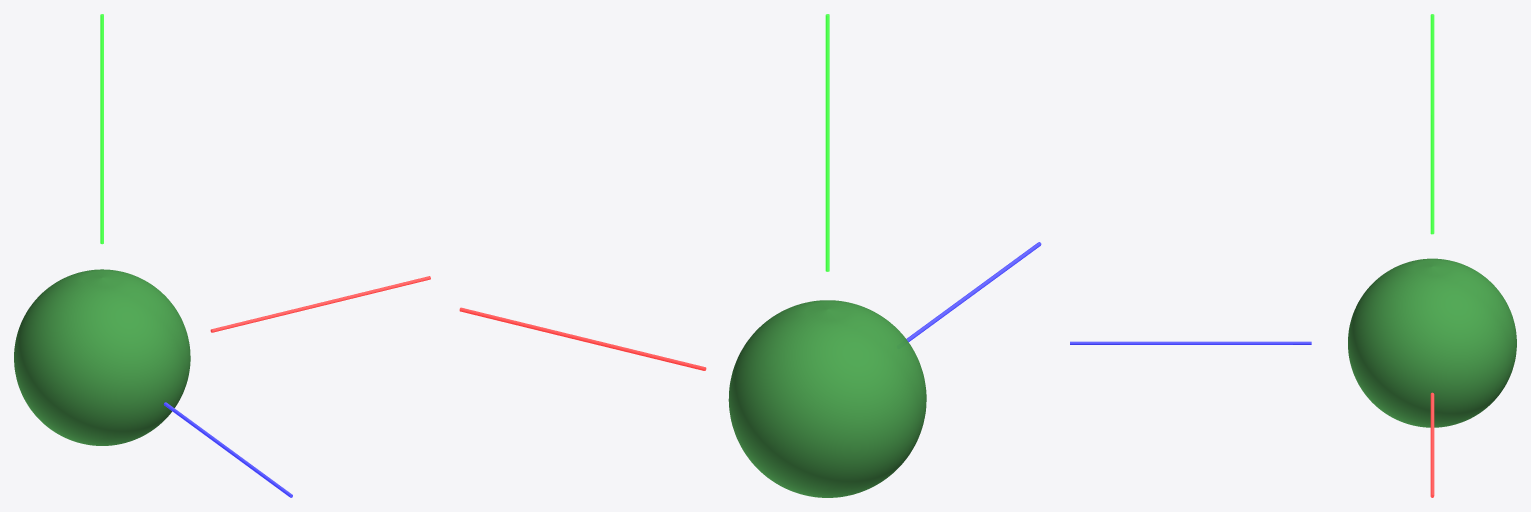
The model's file is solid-of-revolution-sphere.glb.
The picture shows the model from 3 angles, left to right: view 1: azimuth 30°, elevation 25°; view 2: azimuth 150°, elevation 25°; view 3: azimuth 270°, elevation 25°; orthographic projection. The views are drawn at different scales.
Bounding box in the file's own units: 1.85 × 1.85 × 1.85.
